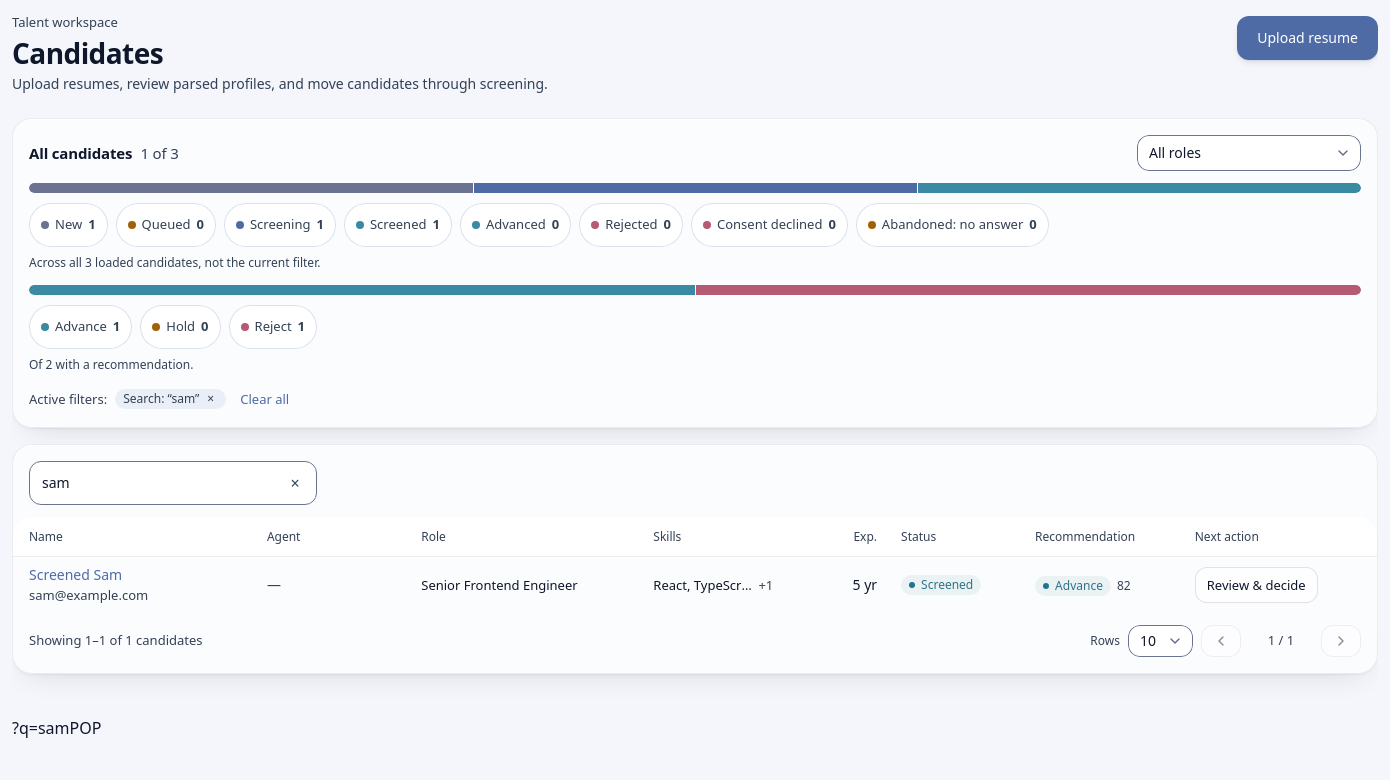
CandidatesPage search › clears from the chip ×, input and URL both
Expected: the link "Screened Sam" is shown, [29,565,122,584]
Click the button named "Remove filter Search: “sam”" at (211, 399), box [203,391,218,407]
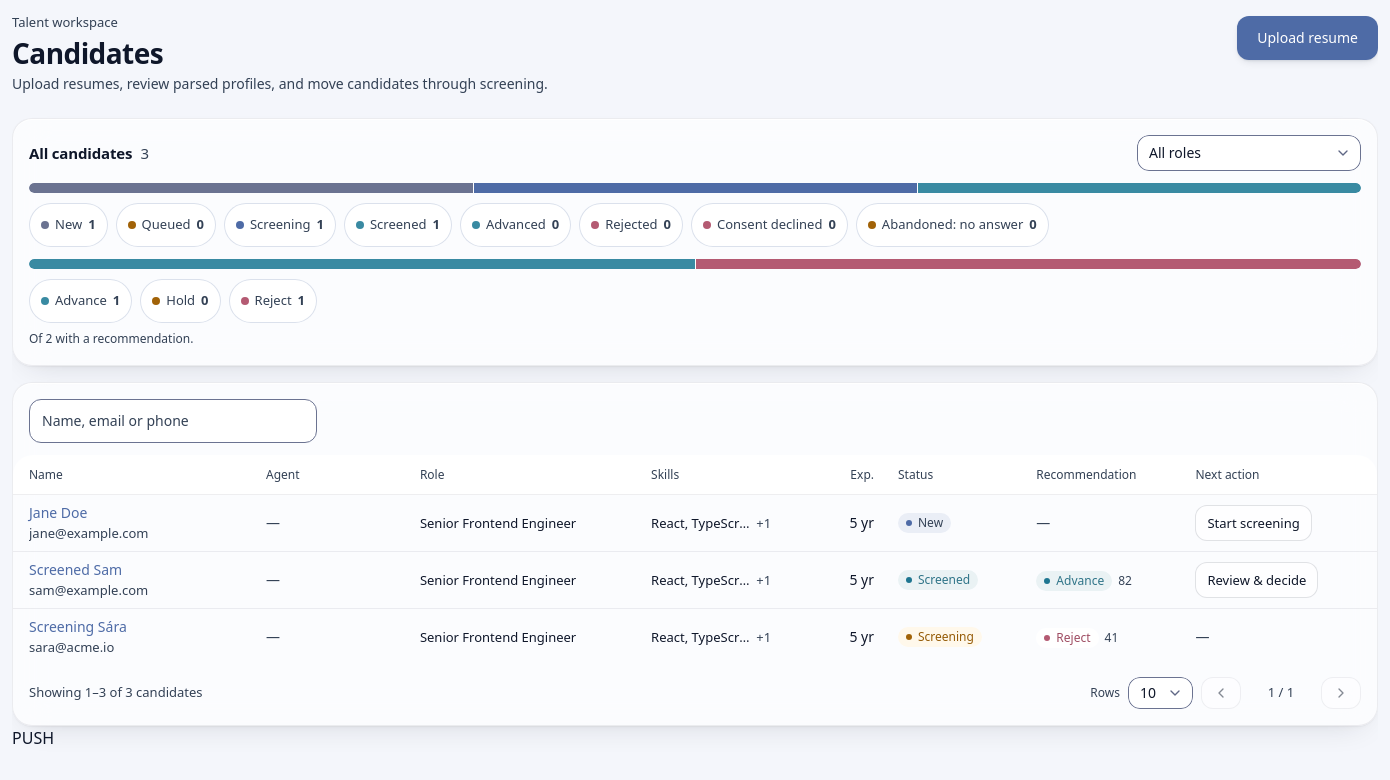
Now the search field named "Search candidates" is empty, box [29,399,317,443]
Now the link "Jane Doe" is shown, box [29,503,88,522]
